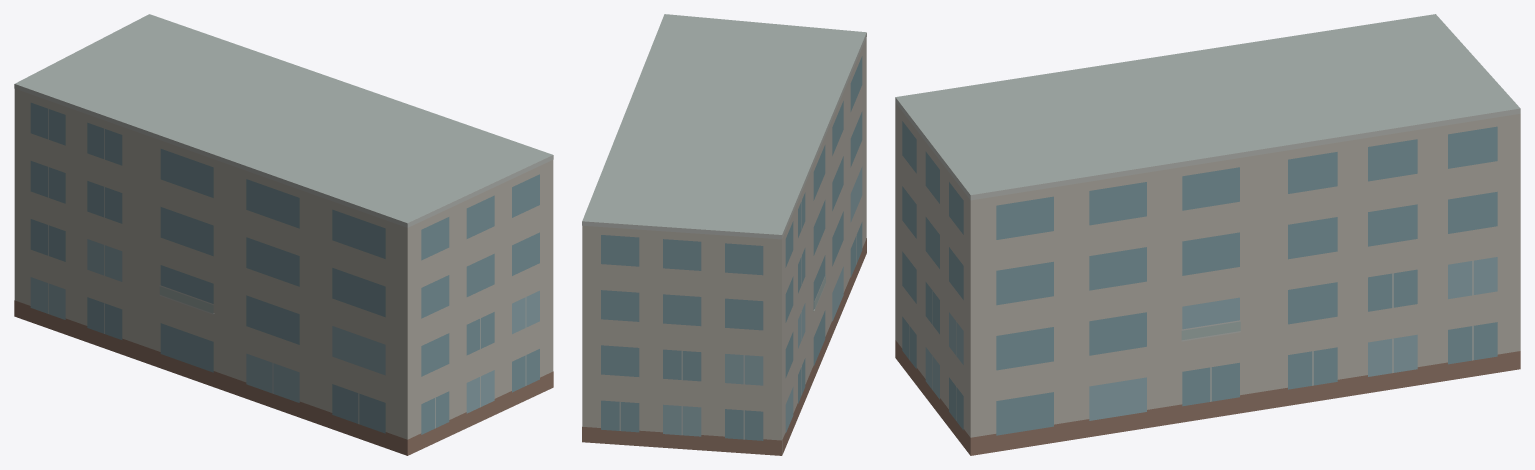
File: survey-upis-32850625.glb
3 renders of one model, left to right at view 1: azimuth 30°, elevation 25°; view 2: azimuth 150°, elevation 25°; view 3: azimuth 270°, elevation 25°, orthographic. The views are drawn at different scales.
Visible parts, largest first — view 1: survey-upis-32850625.tmp; view 2: survey-upis-32850625.tmp; view 3: survey-upis-32850625.tmp.
Part boxes in pixels (x1,y1,x2,y2): survey-upis-32850625.tmp: [14, 14, 553, 455]; survey-upis-32850625.tmp: [582, 14, 866, 455]; survey-upis-32850625.tmp: [895, 14, 1520, 455].
Bounding box in the file's own units: 18.2 × 12.2 × 26.53.
